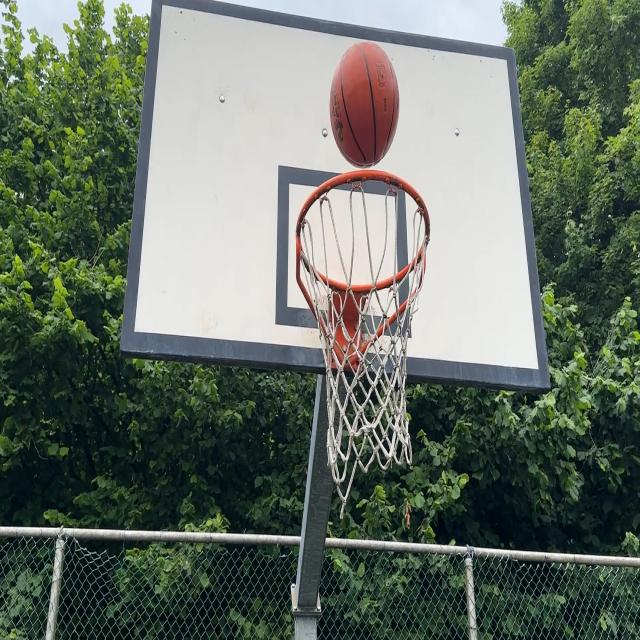Basketball: (329, 38, 400, 172)
